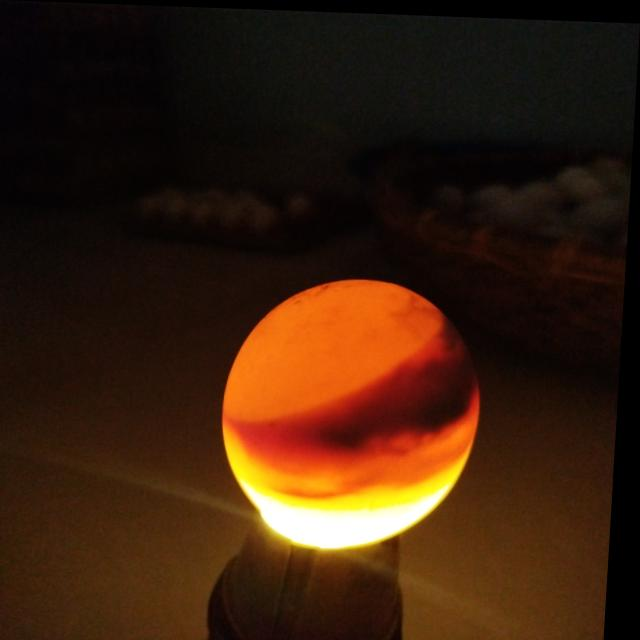Area Infectada: (322, 314, 484, 447)
